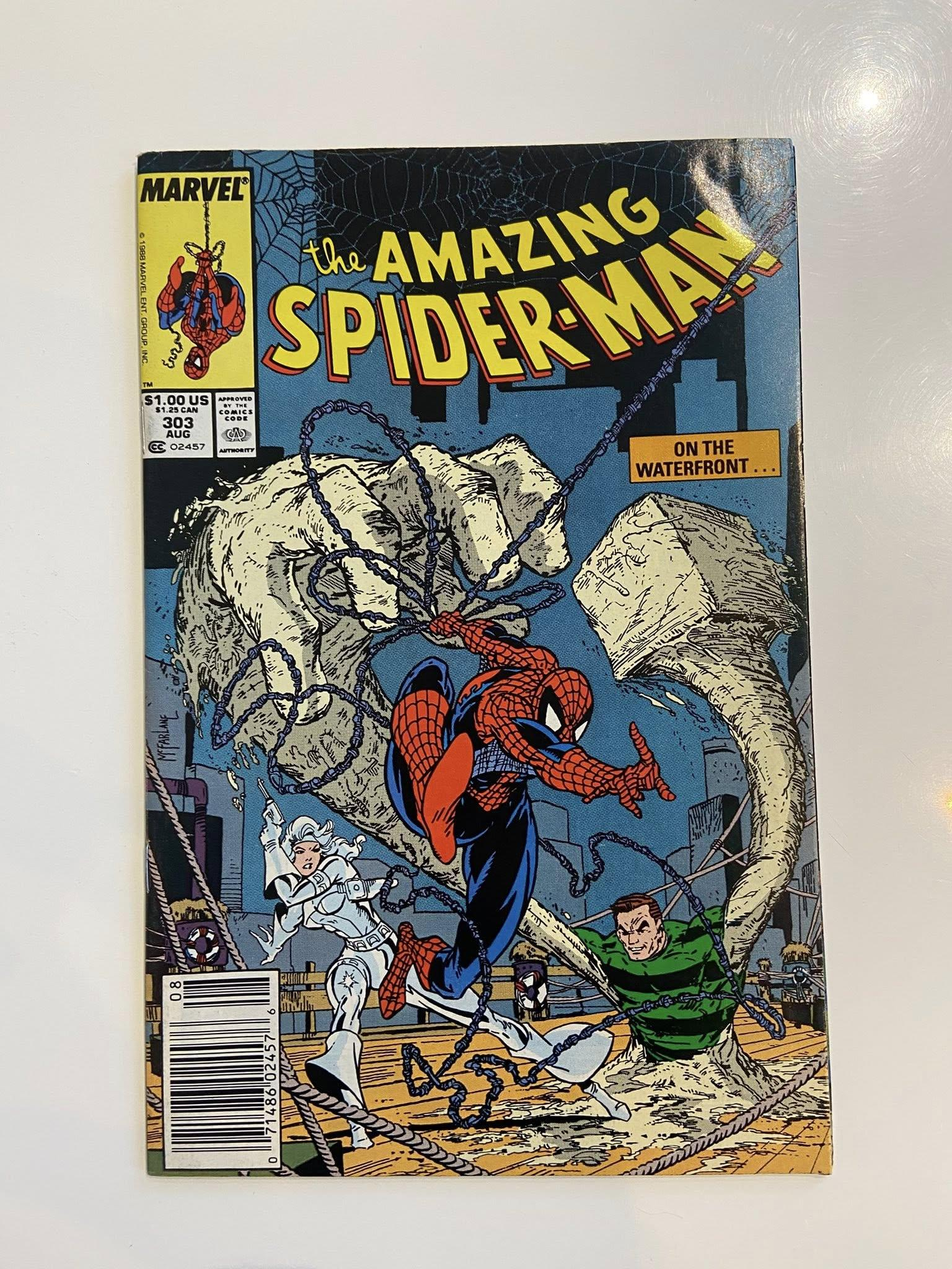comic: (132, 139, 830, 1183)
